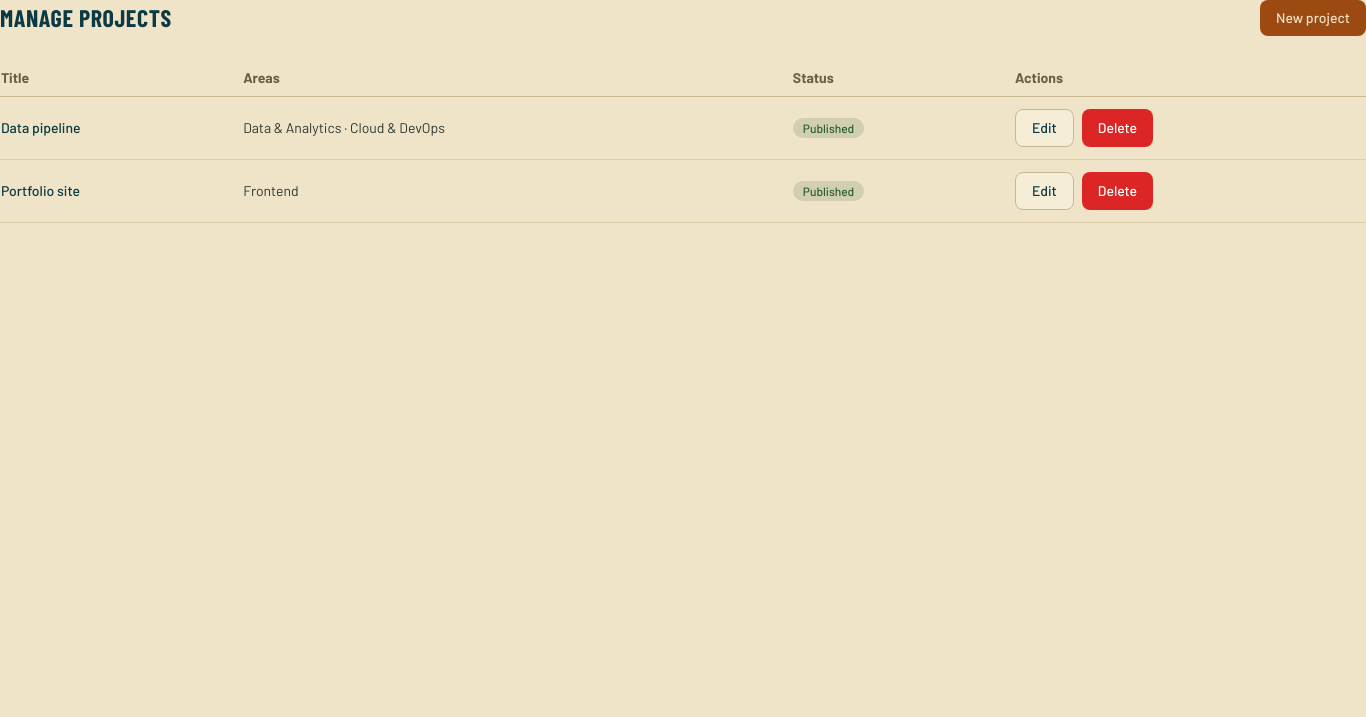
Test case: AdminProjects › opens the new-project form
Check: the text "Data pipeline" is shown, box [0,96,242,160]
Click the button "New project". click: coordinates (1313, 18)
box: [1260,0,1365,36]
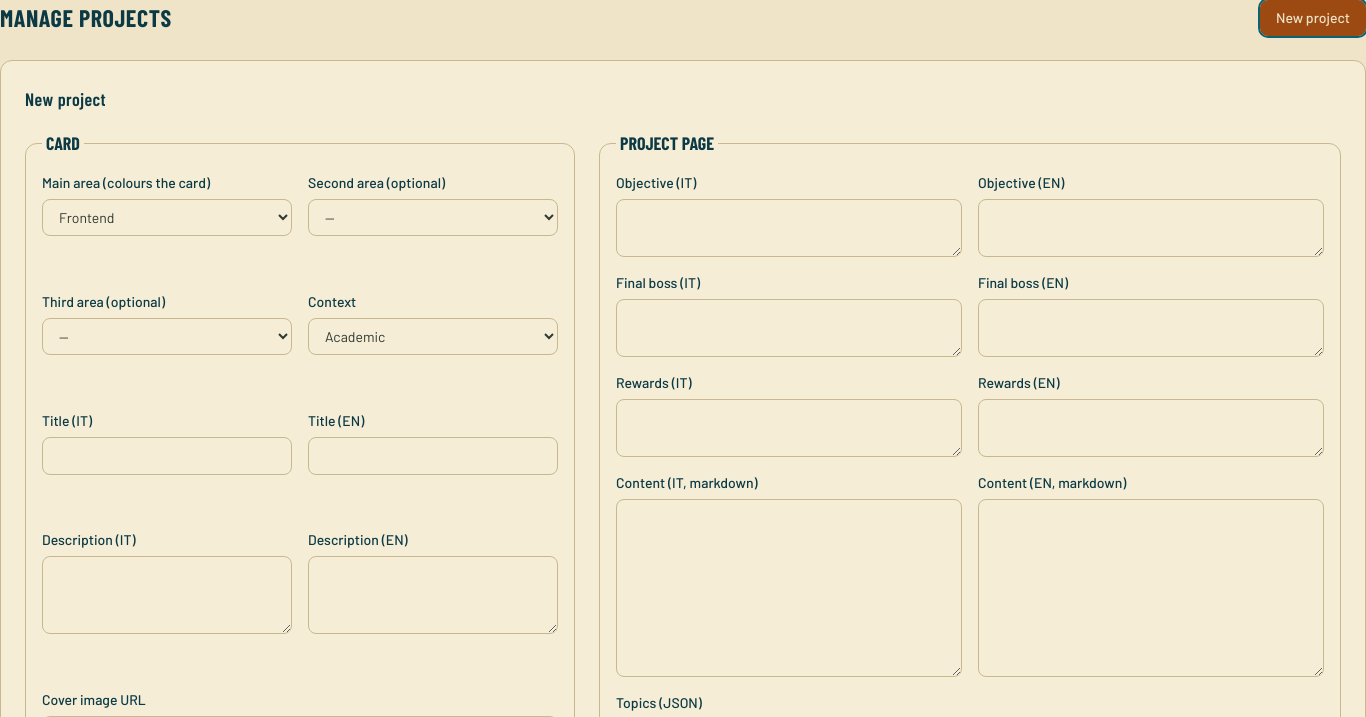
Check: the heading "New project" is shown, box [25,88,106,110]
Check: the field labelled "Title (EN)" is shown, box [308,436,558,474]
